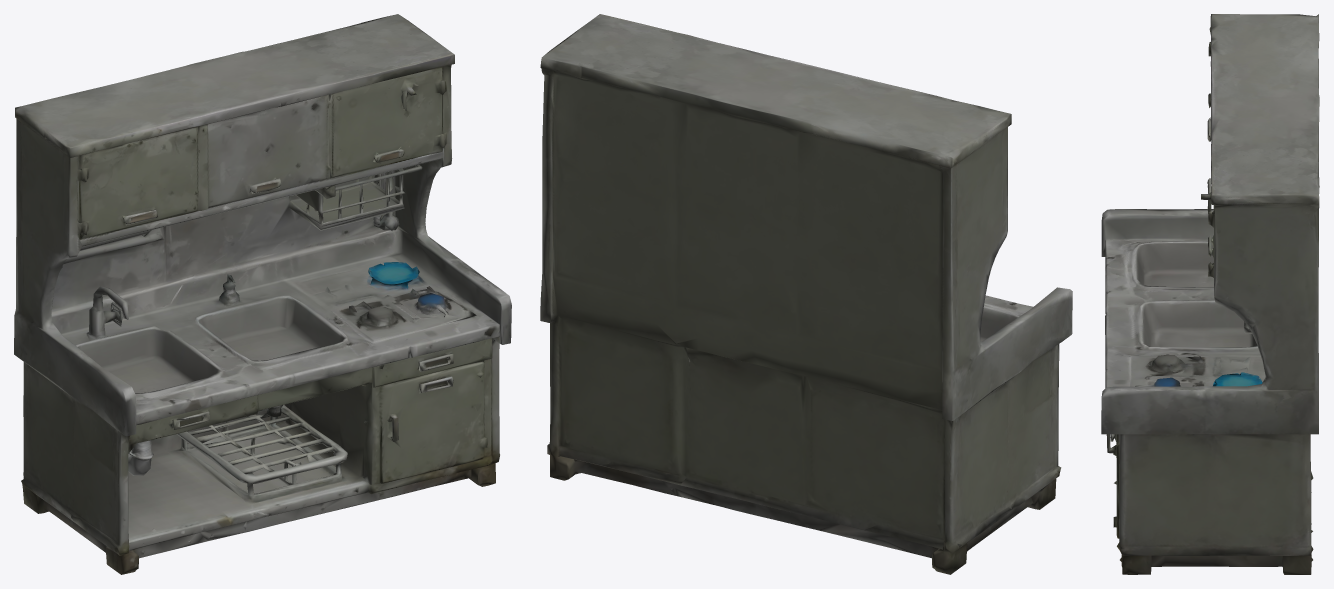
The model's file is shuttle_galley_unit.glb.
The picture shows the model from 3 angles, left to right: view 1: azimuth 30°, elevation 25°; view 2: azimuth 150°, elevation 25°; view 3: azimuth 270°, elevation 25°; orthographic projection. The views are drawn at different scales.
Parts seen in each view (by area): view 1: tripo_node_de174c8d-5aed-44a2-8461-7ffe9689b045; view 2: tripo_node_de174c8d-5aed-44a2-8461-7ffe9689b045; view 3: tripo_node_de174c8d-5aed-44a2-8461-7ffe9689b045.
Boxes of the visible parts, x1=… form: tripo_node_de174c8d-5aed-44a2-8461-7ffe9689b045: x1=14, y1=14, x2=511, y2=574; tripo_node_de174c8d-5aed-44a2-8461-7ffe9689b045: x1=540, y1=14, x2=1072, y2=574; tripo_node_de174c8d-5aed-44a2-8461-7ffe9689b045: x1=1101, y1=14, x2=1319, y2=574.
Bounding box in the file's own units: 0.9812 × 0.9533 × 0.4929.
1 material, 1 textured.
